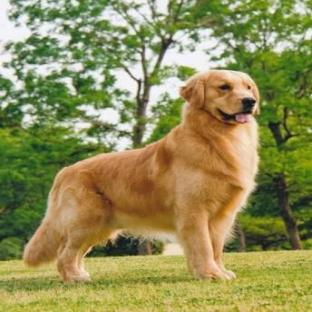Animal: (24, 70, 258, 281)
